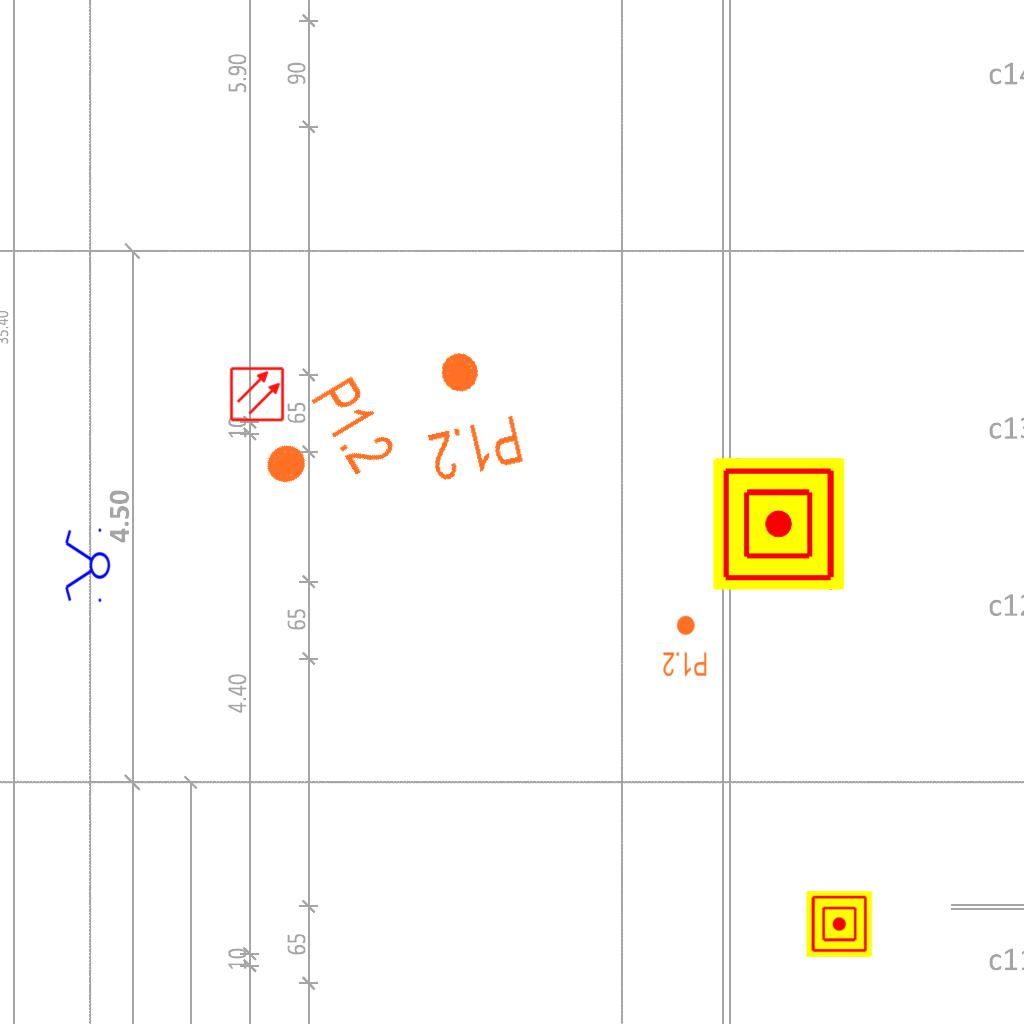Downlight_LED_Einbauleuchten_Flur: (243, 371, 402, 517), (407, 340, 528, 486), (662, 614, 708, 678)
NAM-Nichtautomatischer_Melder: (713, 458, 845, 590), (806, 891, 872, 957)
RMO_Rauchmelder_optischer: (229, 366, 285, 422)
Serienschalter: (63, 524, 111, 608)
